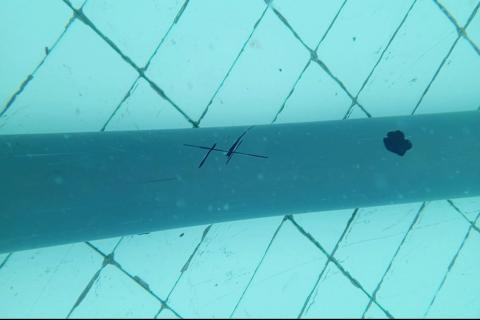kebocoran: (381, 128, 412, 157)
keretakan: (180, 127, 270, 167)
